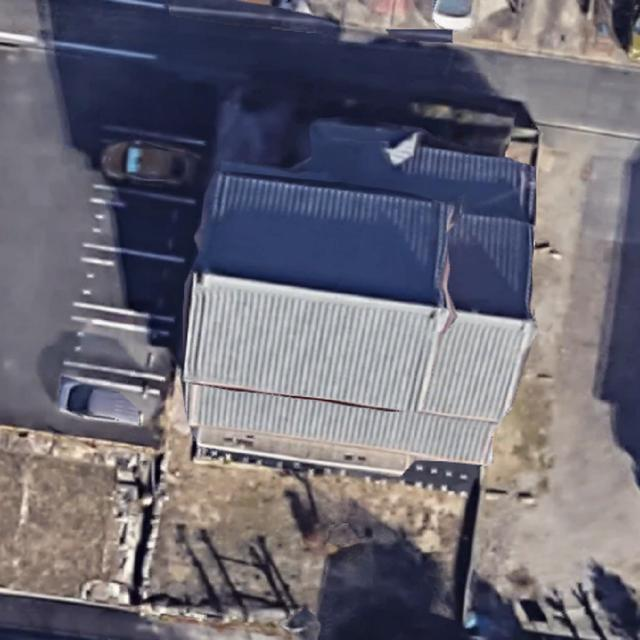Batiment: (183, 120, 536, 475)
